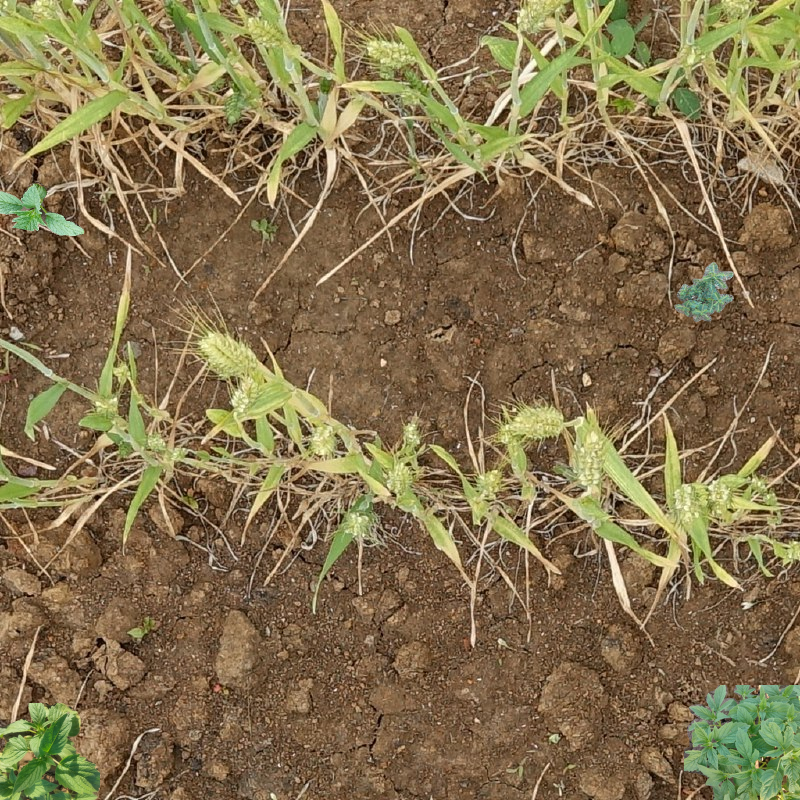spikelet: (198, 329, 261, 377), (675, 267, 731, 319), (505, 401, 567, 441), (574, 427, 608, 493), (514, 1, 568, 35), (363, 36, 418, 69), (227, 373, 262, 420), (243, 13, 284, 50), (667, 480, 699, 524), (342, 505, 379, 543), (305, 419, 340, 458), (221, 84, 250, 125), (473, 467, 504, 501), (384, 459, 414, 494), (705, 479, 734, 515), (89, 391, 122, 420), (399, 415, 424, 451), (675, 40, 703, 70), (718, 1, 756, 19), (29, 1, 62, 21), (781, 532, 800, 566)
weed: (684, 685, 800, 800), (1, 703, 100, 800), (1, 182, 96, 240), (674, 262, 734, 322), (126, 617, 161, 647)
